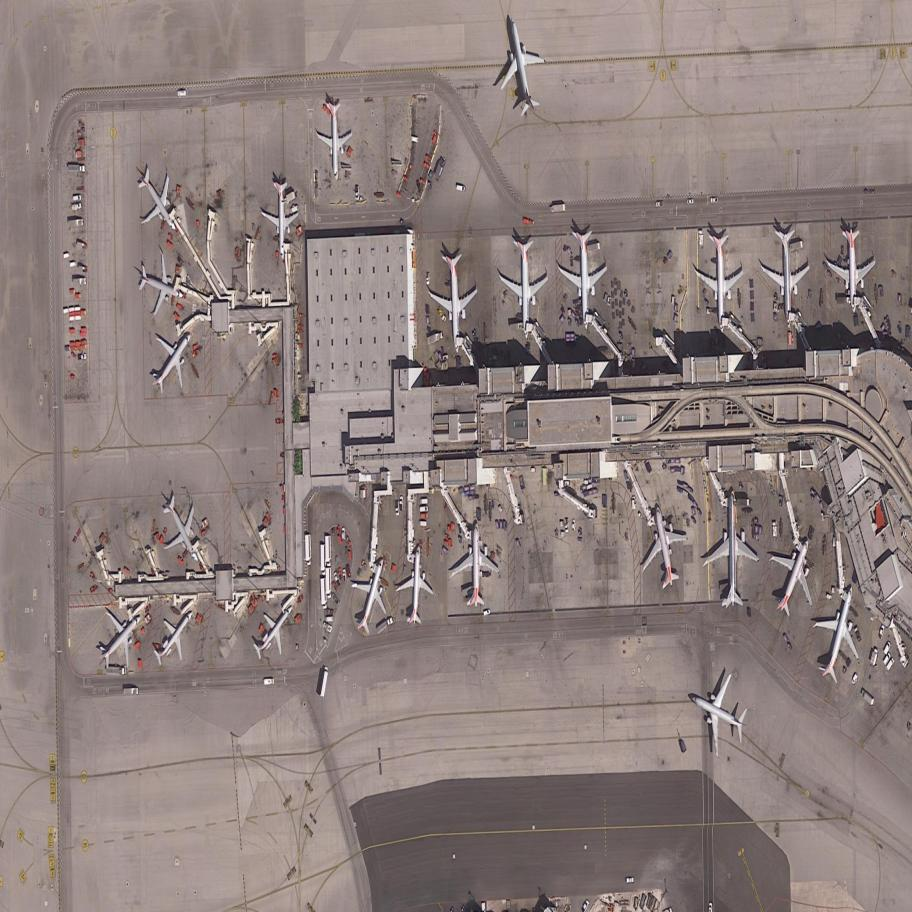large-vehicle: (319, 663, 331, 700), (375, 615, 396, 634), (858, 689, 876, 706), (324, 536, 332, 568), (320, 579, 328, 610), (426, 332, 445, 345), (320, 543, 327, 576), (304, 535, 311, 567), (325, 567, 332, 599), (869, 647, 878, 667), (437, 308, 448, 323), (853, 626, 863, 641), (68, 164, 86, 172), (75, 240, 88, 250), (883, 654, 893, 667), (124, 687, 139, 695), (886, 659, 895, 672), (883, 641, 891, 655), (77, 265, 88, 272), (395, 501, 399, 517), (72, 195, 81, 202), (483, 609, 492, 616), (565, 518, 569, 533), (265, 679, 274, 685), (420, 507, 428, 513), (400, 496, 403, 511), (420, 499, 428, 504), (421, 514, 429, 519), (427, 272, 430, 285), (419, 522, 426, 527)
plane: (747, 509, 838, 638), (795, 565, 879, 702), (111, 146, 205, 260), (126, 302, 219, 416), (676, 652, 757, 772), (486, 1, 555, 127), (140, 475, 221, 577), (628, 488, 695, 601), (133, 590, 213, 684), (701, 484, 760, 611), (85, 583, 157, 687), (336, 538, 404, 648), (235, 586, 314, 678), (132, 240, 193, 334), (498, 234, 552, 336), (761, 225, 811, 329), (558, 227, 608, 331), (430, 250, 479, 355), (448, 518, 501, 614), (695, 230, 745, 328), (826, 225, 876, 313), (394, 543, 436, 630), (260, 178, 299, 265), (316, 101, 352, 178)
small-vehicle: (550, 204, 567, 213), (878, 624, 886, 640), (333, 572, 341, 586), (850, 673, 859, 685), (331, 581, 340, 593), (331, 594, 341, 604), (582, 899, 590, 911), (456, 184, 467, 192), (355, 185, 360, 200), (656, 201, 664, 208), (410, 136, 418, 143), (325, 617, 334, 623), (341, 528, 345, 540), (710, 197, 718, 203), (338, 567, 342, 579), (626, 877, 634, 882), (343, 569, 346, 581), (687, 200, 694, 205), (573, 520, 576, 531)
